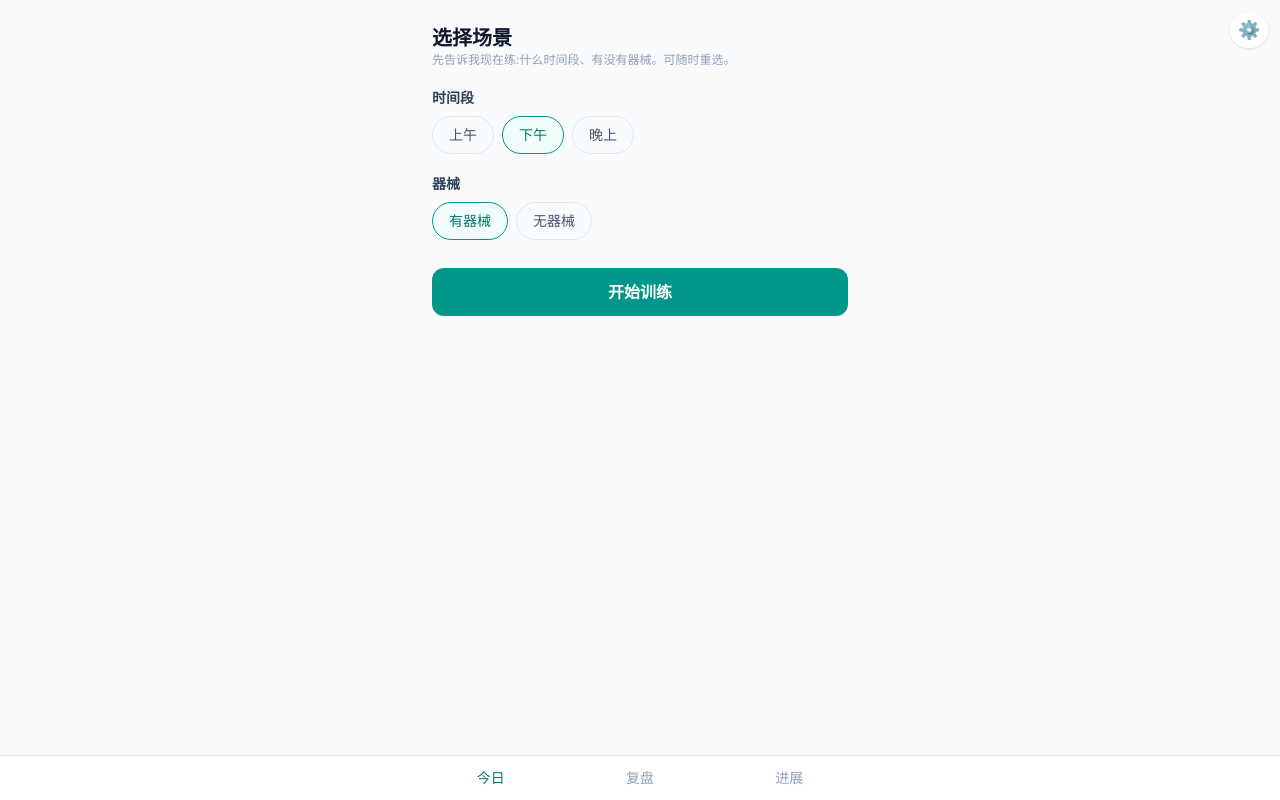
App shell(已确认) › 点击进展 Tab 显示照片时间线(空态)
expect the heading "选择场景" is shown: met, box top-left (432, 26), bottom-right (512, 50)
Click the button "进展": (789, 778) top-left (715, 756), bottom-right (864, 799)
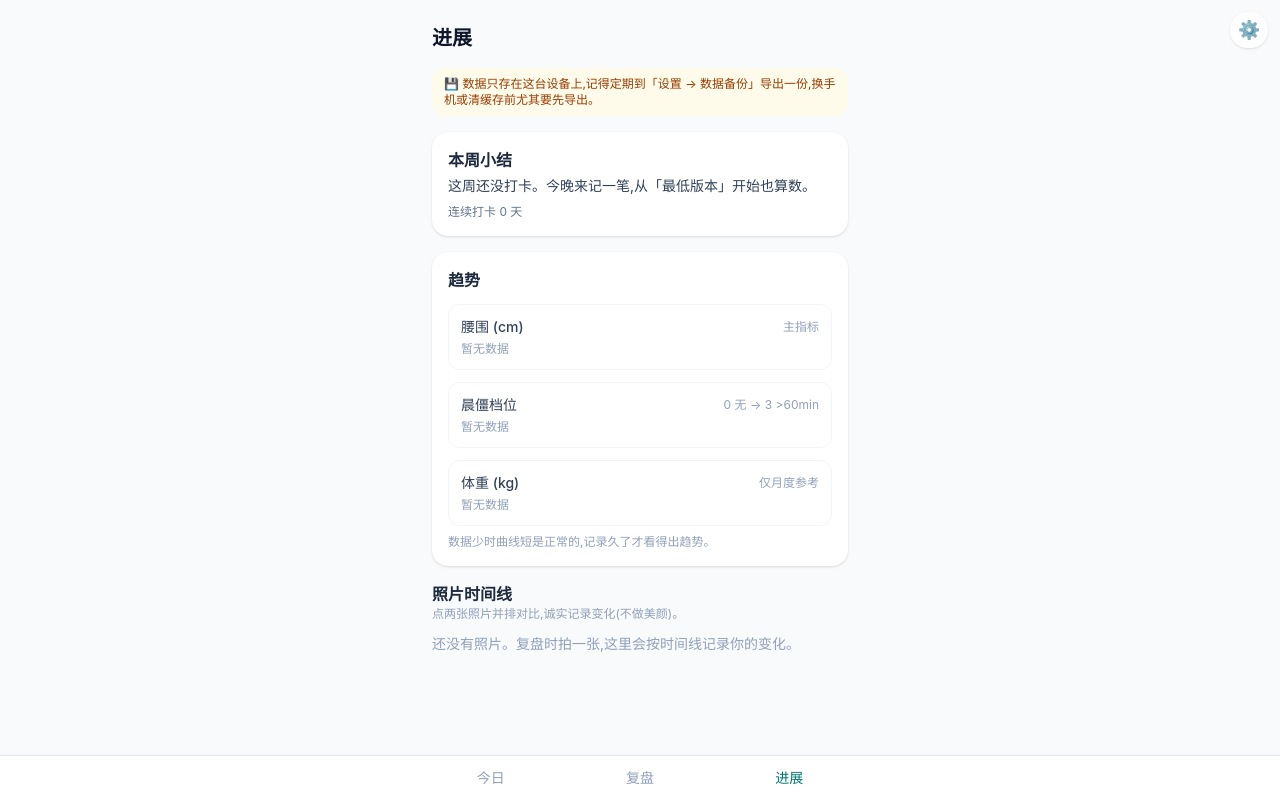
expect the text "还没有照片。复盘时拍一张,这里会按时间线记录你的变化。" is shown: met, box top-left (432, 634), bottom-right (848, 654)
